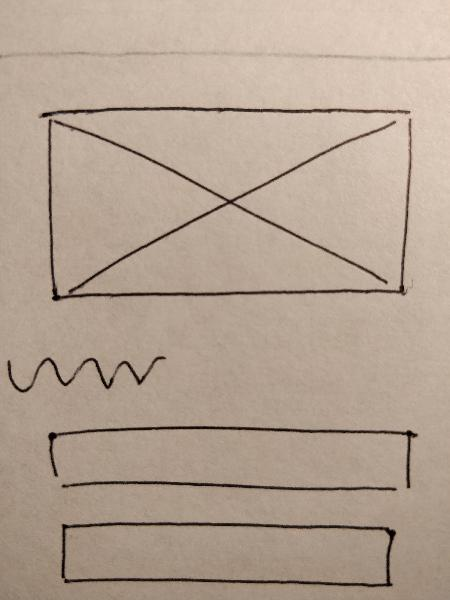image: (29, 93, 430, 322)
text: (2, 350, 170, 399)
text_input: (40, 417, 422, 501), (51, 514, 403, 595)
